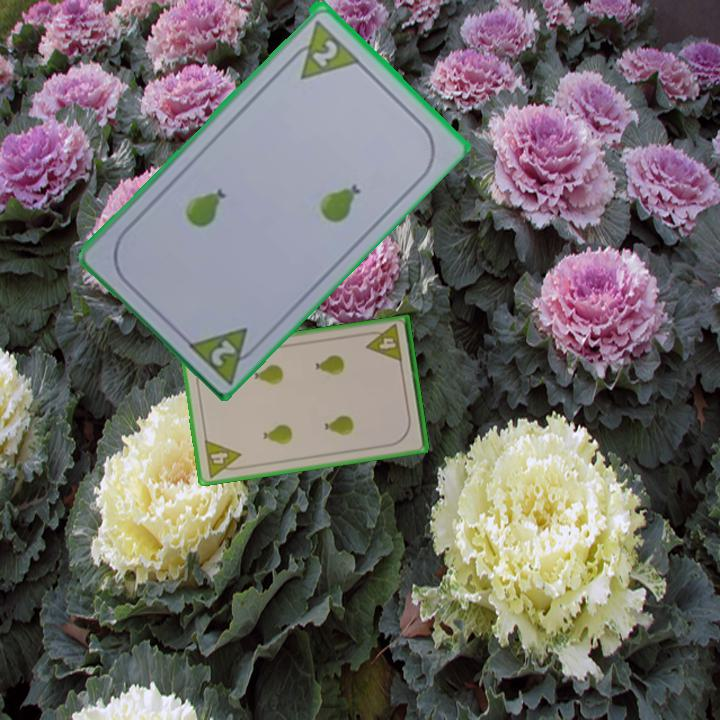2p: (308, 35, 341, 70), (207, 335, 239, 369)
4p: (201, 436, 245, 480), (362, 321, 405, 365)
